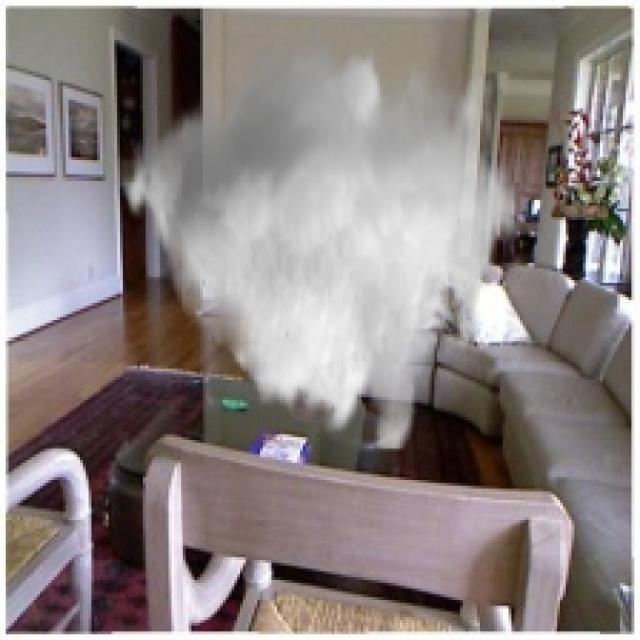Smoke: (114, 34, 517, 452)
